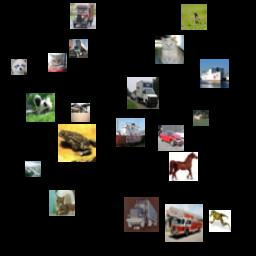airplane: (71, 103, 90, 122), (25, 161, 41, 177)
automobile: (158, 125, 184, 151)
bird: (181, 4, 207, 30)
cat: (155, 35, 184, 64), (49, 190, 75, 216), (48, 53, 67, 72)
dog: (26, 93, 55, 122), (11, 59, 27, 75)
frog: (58, 124, 96, 162), (209, 210, 231, 232)
ship: (116, 118, 145, 147), (200, 59, 229, 88)
truck: (165, 204, 203, 242), (124, 197, 159, 232), (127, 77, 159, 109), (70, 3, 96, 29), (69, 39, 88, 58)
